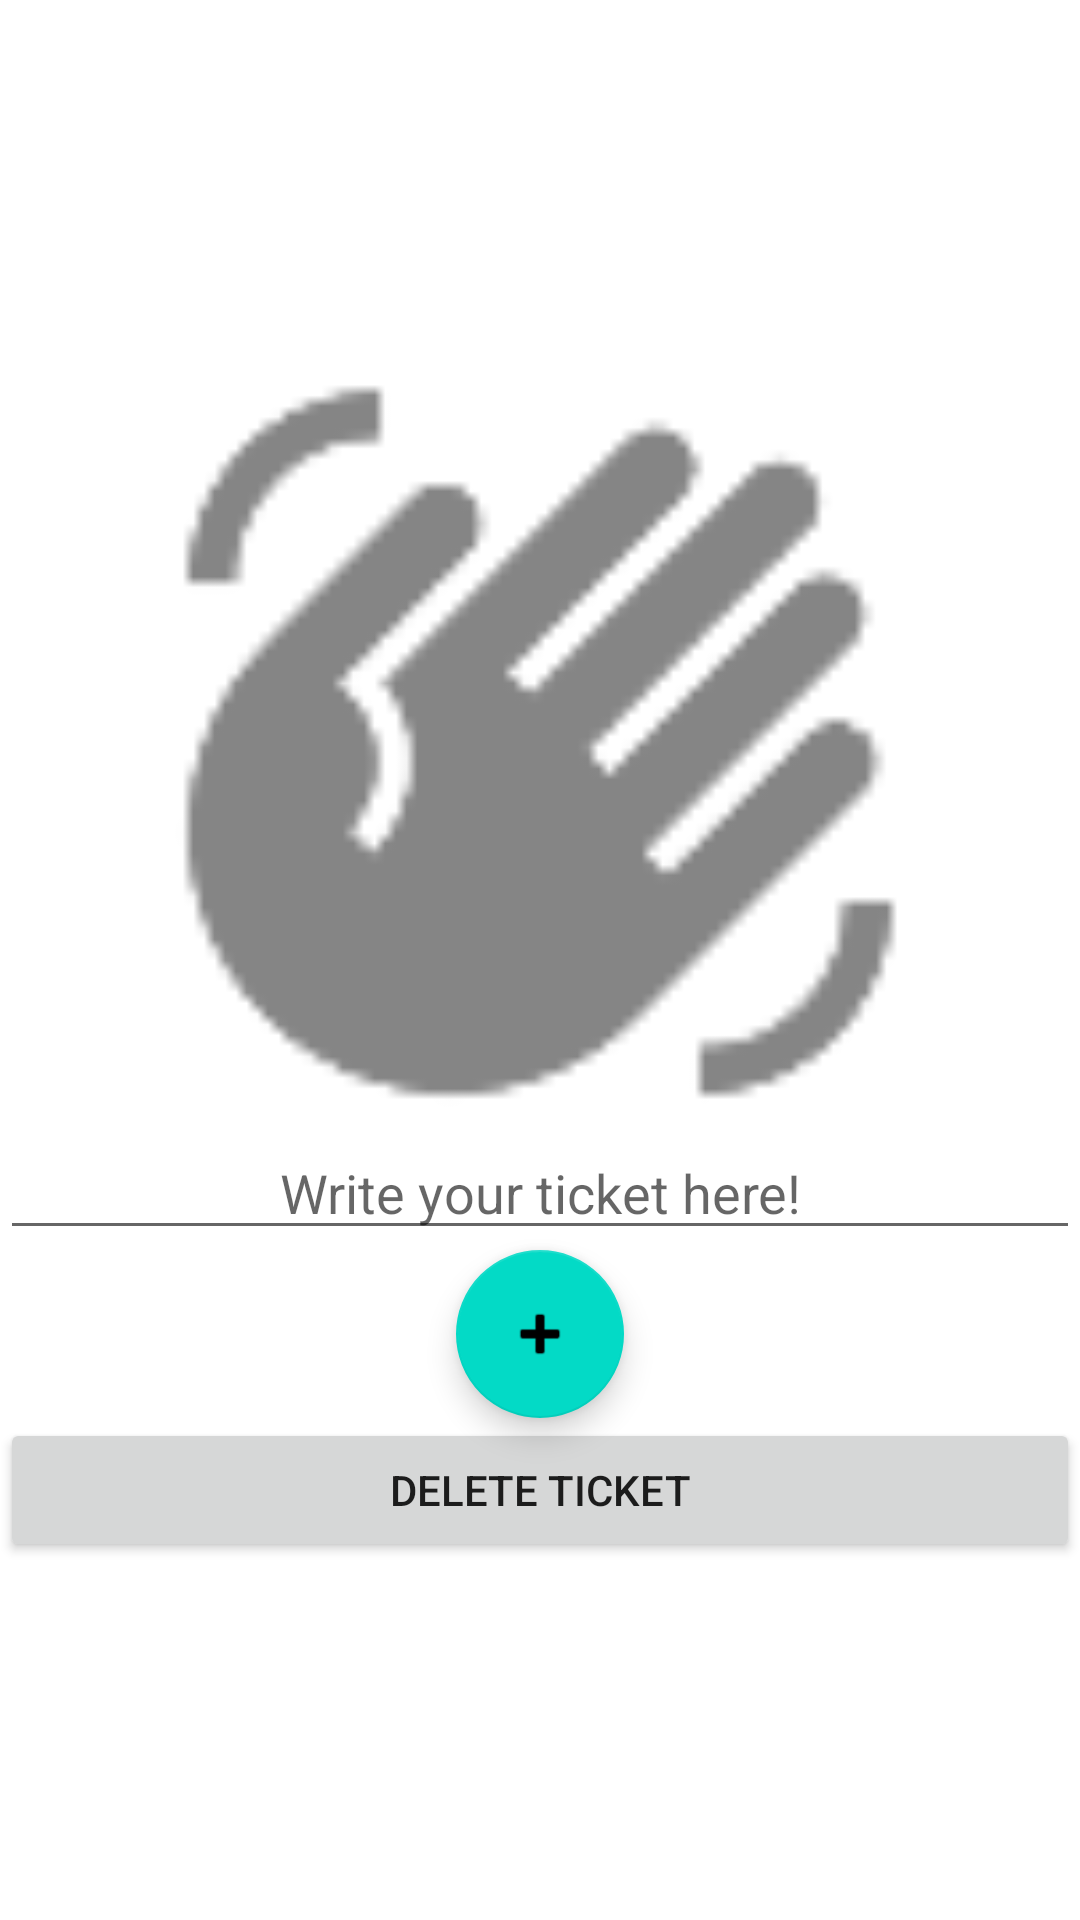

Locate icon controls on the screen. Image size 1080×1920, boxes as (x1, y1, x2, y2).
add: (456, 1250, 624, 1418)
